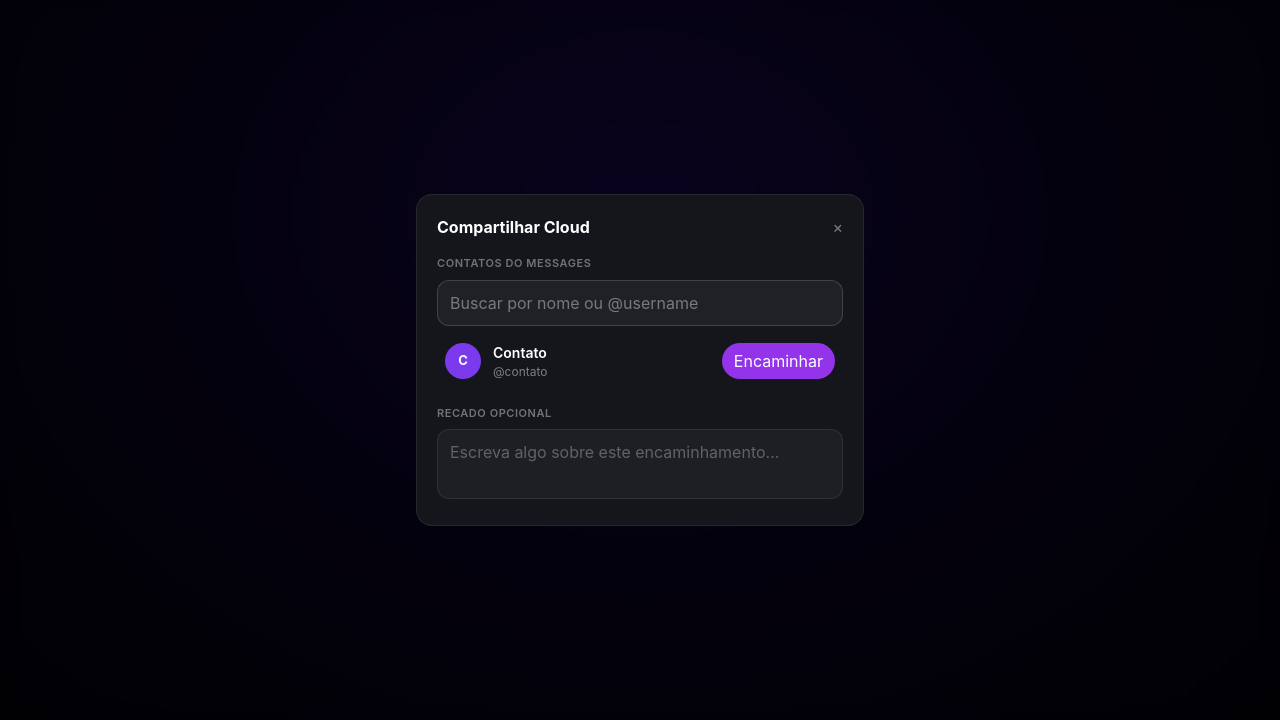
Cloud contact sharing state › ignores a repeated click while the same contact is sending
The image size is (1280, 720).
Click the button "Encaminhar" at {"x": 778, "y": 361}, box [722,343,835,379]
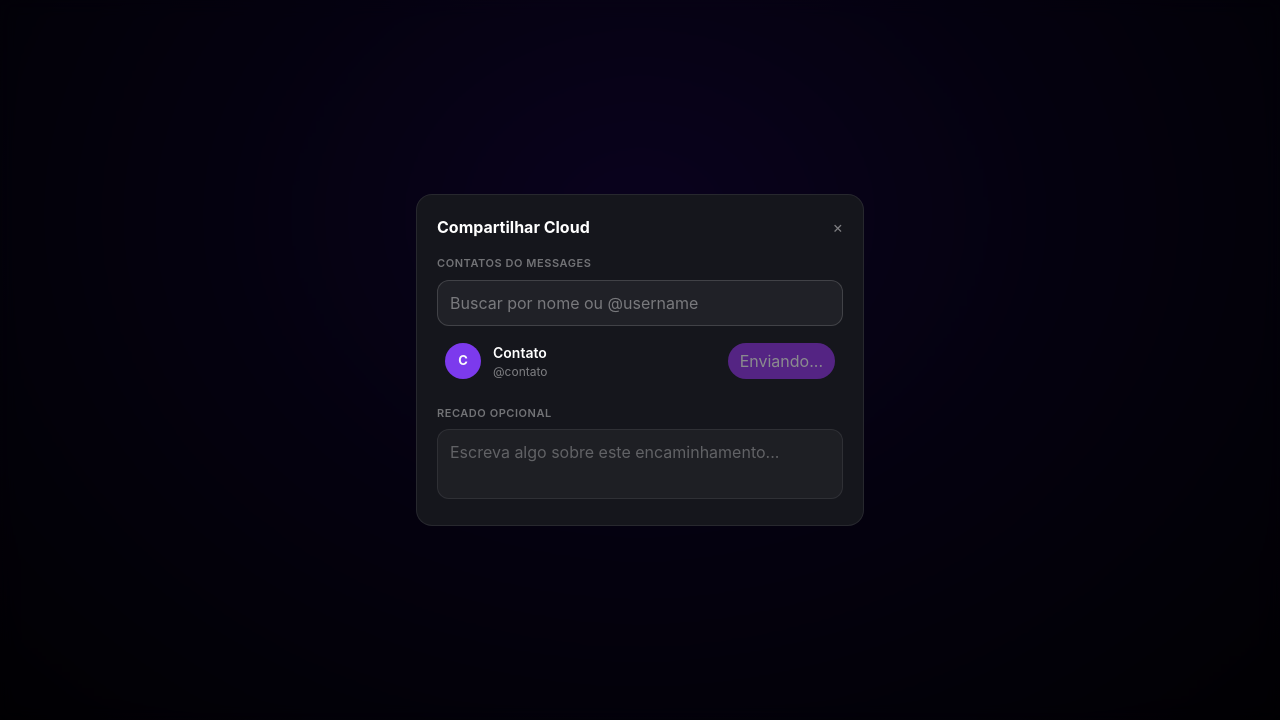
Click the button named "Encaminhar" at {"x": 781, "y": 361}, box [728,343,835,379]
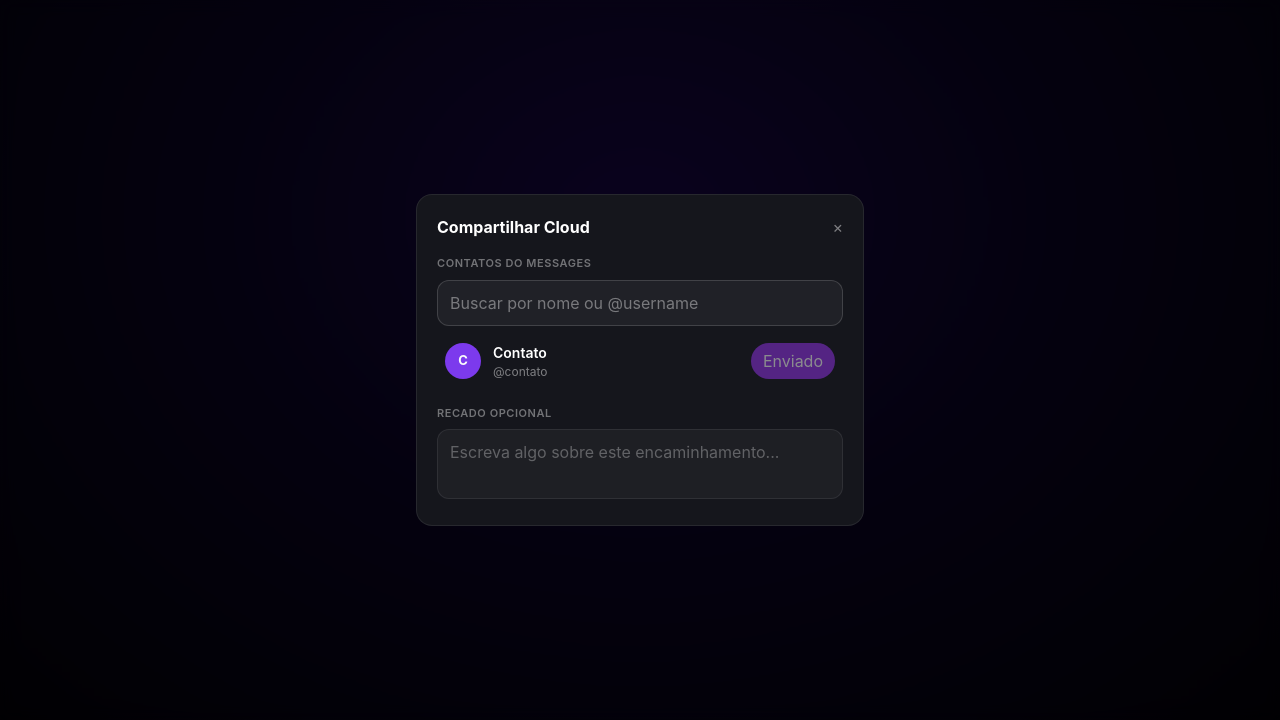
Expected: the button "Enviado" is shown, [751,343,835,379]
